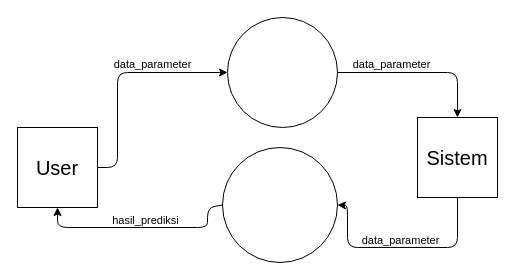
Image size: 515x280. Some labels were removed from this diagram. The shapes that lost their labels are listed below. From the top down, each one's box as (x1, y1, x2, y2) in pixels, then its label:
(226, 16, 338, 128): 1.1 Input DAta
(222, 146, 338, 262): 1.2 Prediksi
